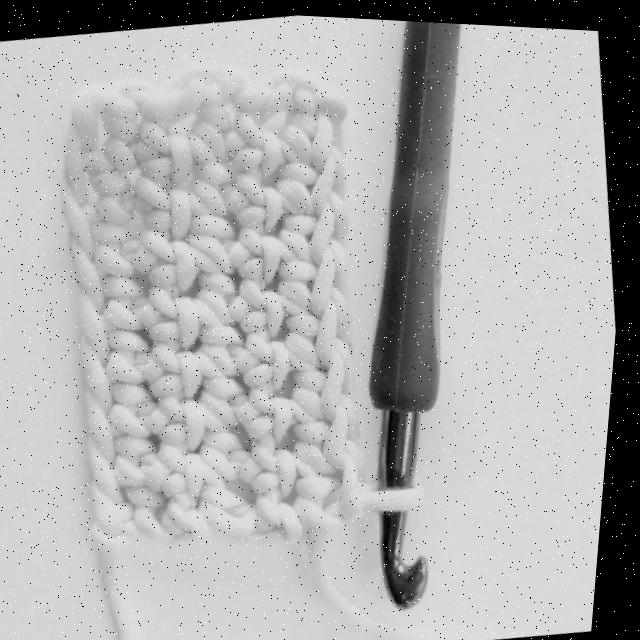ch: (84, 284, 114, 362), (74, 243, 108, 309), (96, 445, 133, 503), (89, 339, 117, 415), (91, 395, 119, 459), (67, 191, 95, 253), (70, 124, 90, 201), (99, 486, 127, 535)
sc: (83, 89, 163, 174), (304, 439, 373, 524), (151, 226, 230, 291), (283, 236, 352, 310), (302, 392, 366, 471), (298, 339, 359, 419), (141, 171, 216, 236), (280, 143, 349, 212), (142, 118, 213, 184), (158, 284, 227, 349), (296, 286, 352, 363), (233, 108, 300, 171), (249, 330, 323, 387), (156, 340, 229, 397), (168, 439, 236, 497), (277, 199, 338, 261), (284, 109, 343, 172), (190, 216, 257, 270), (116, 432, 177, 491), (165, 392, 230, 447), (257, 439, 323, 493), (239, 172, 299, 230), (117, 383, 180, 437), (245, 279, 309, 332), (98, 224, 167, 272), (191, 157, 251, 212), (202, 482, 265, 533), (242, 227, 301, 281), (107, 275, 166, 328), (255, 387, 315, 438), (209, 372, 266, 424), (96, 171, 155, 221), (205, 325, 264, 374), (204, 273, 259, 324), (211, 430, 267, 478), (131, 486, 189, 531), (199, 105, 248, 157), (116, 332, 166, 382), (262, 489, 307, 541)
